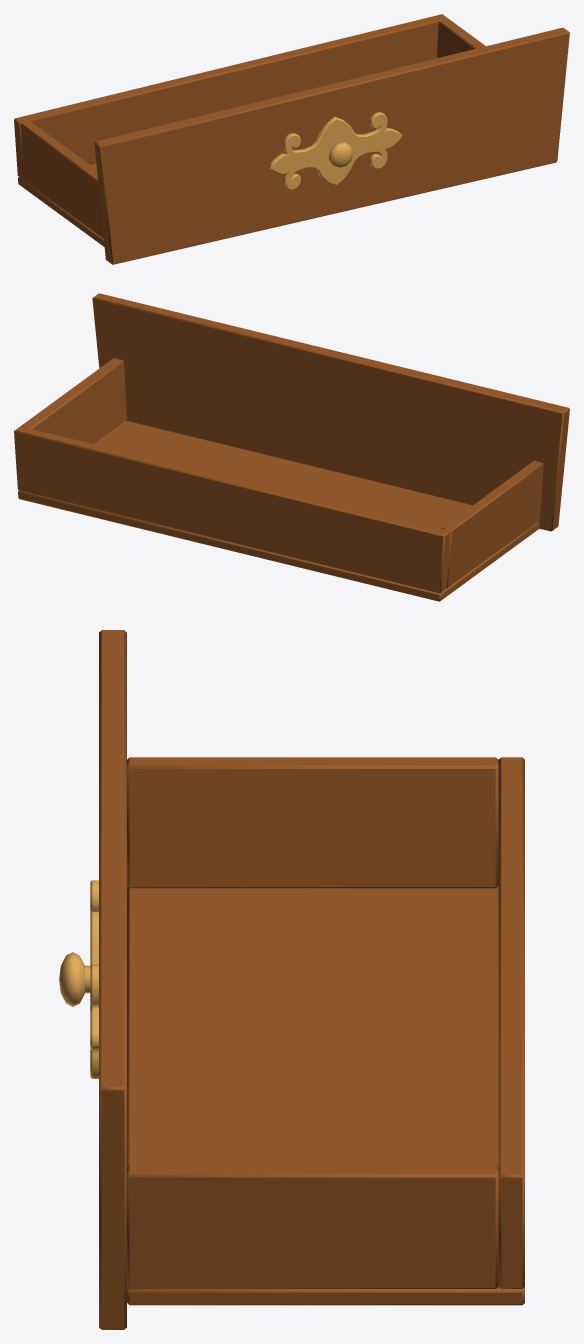
The model's file is Bookcase2_1.fbx.
3 renders of one model, top to bottom at view 1: azimuth 30°, elevation 25°; view 2: azimuth 150°, elevation 25°; view 3: azimuth 270°, elevation 25°, orthographic. The views are drawn at different scales.
Parts seen in each view (by area): view 1: Bookcase2_1; view 2: Bookcase2_1; view 3: Bookcase2_1.
Part boxes in pixels (x1=…): Bookcase2_1: x1=14, y1=14, x2=569, y2=264; Bookcase2_1: x1=14, y1=293, x2=569, y2=601; Bookcase2_1: x1=59, y1=630, x2=524, y2=1329.
Bounding box in the file's own units: 1.15 × 0.298 × 0.4921.
